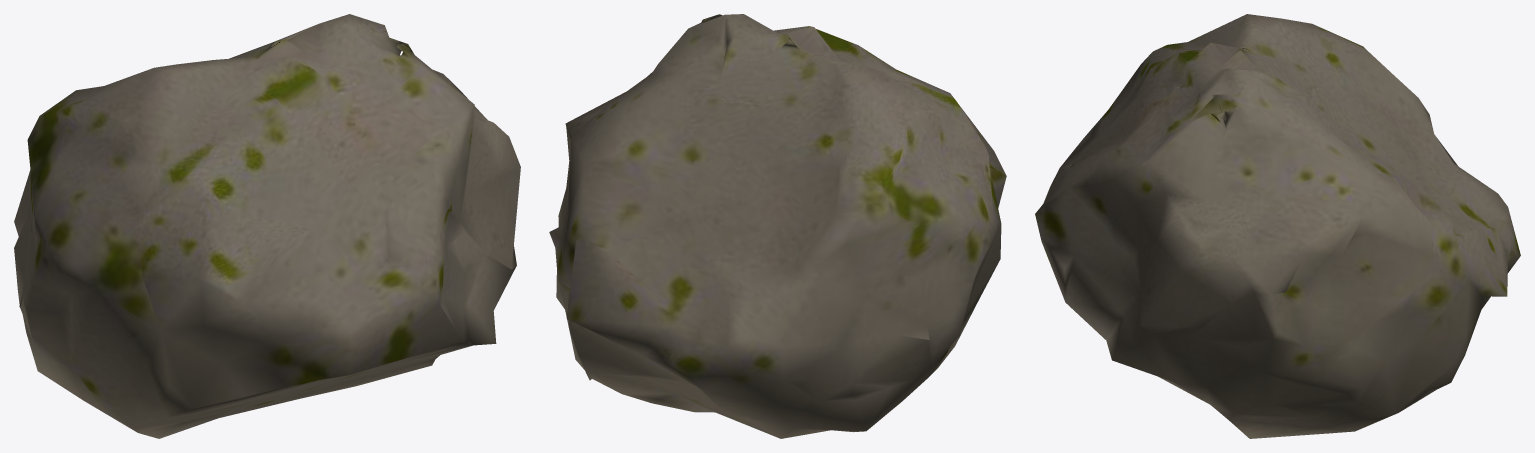
The model's file is masso1.glb.
The picture shows the model from 3 angles, left to right: view 1: azimuth 30°, elevation 25°; view 2: azimuth 150°, elevation 25°; view 3: azimuth 270°, elevation 25°; orthographic projection. The views are drawn at different scales.
Parts seen in each view (by area): view 1: tripo_node_478f77e9-5d8e-4307-90b9-80966ea1bbe8; view 2: tripo_node_478f77e9-5d8e-4307-90b9-80966ea1bbe8; view 3: tripo_node_478f77e9-5d8e-4307-90b9-80966ea1bbe8.
Boxes of the visible parts, bbox=[...] form: tripo_node_478f77e9-5d8e-4307-90b9-80966ea1bbe8: bbox=[14, 14, 520, 438]; tripo_node_478f77e9-5d8e-4307-90b9-80966ea1bbe8: bbox=[549, 14, 1006, 438]; tripo_node_478f77e9-5d8e-4307-90b9-80966ea1bbe8: bbox=[1035, 14, 1520, 438].
Size of the model in its own units: 1.19 by 1 by 1.23.
Materials: 1 (1 with a texture image).
